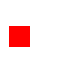square: (9, 26, 29, 46)
